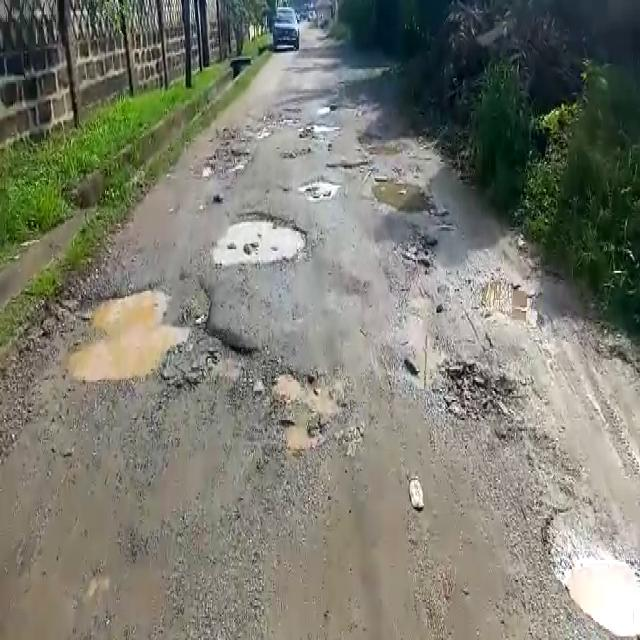Pothole: (56, 272, 251, 390), (545, 504, 640, 640), (260, 360, 352, 453), (438, 358, 524, 428), (216, 213, 313, 265), (474, 272, 548, 330), (372, 179, 434, 214), (291, 178, 338, 200), (325, 156, 376, 171), (303, 120, 338, 136)
